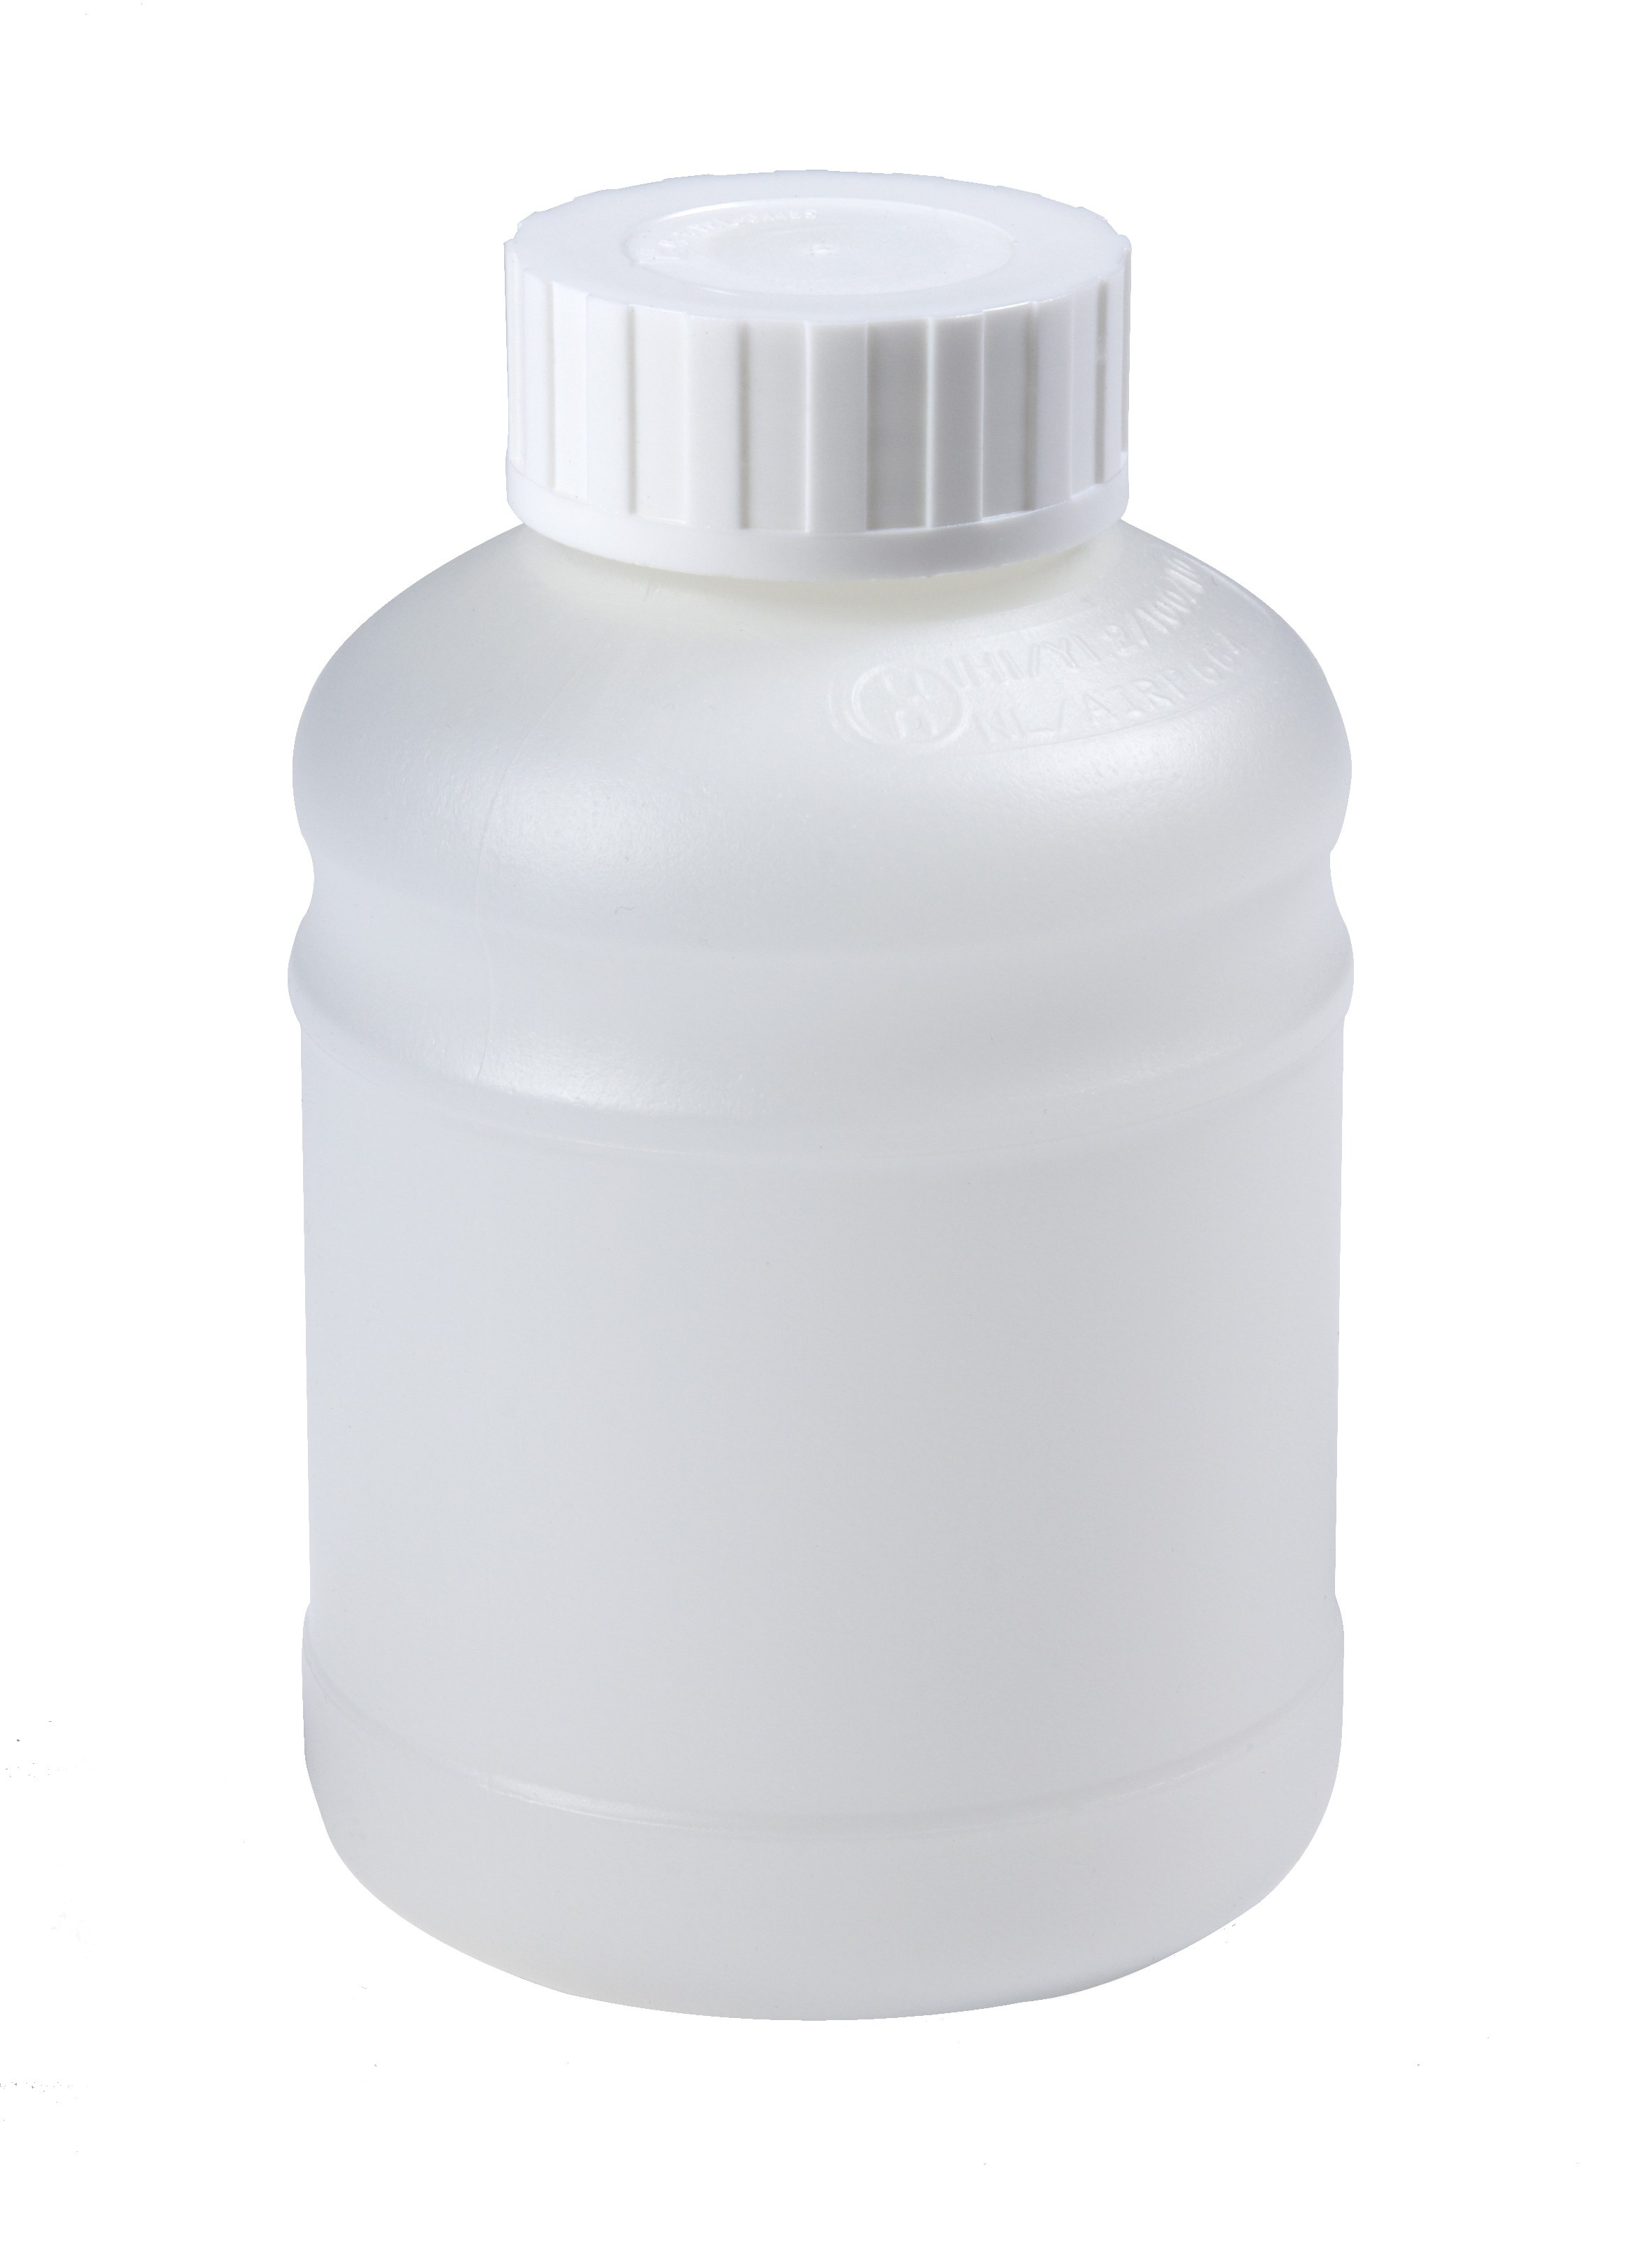emptybottle: (296, 163, 1340, 2016)
